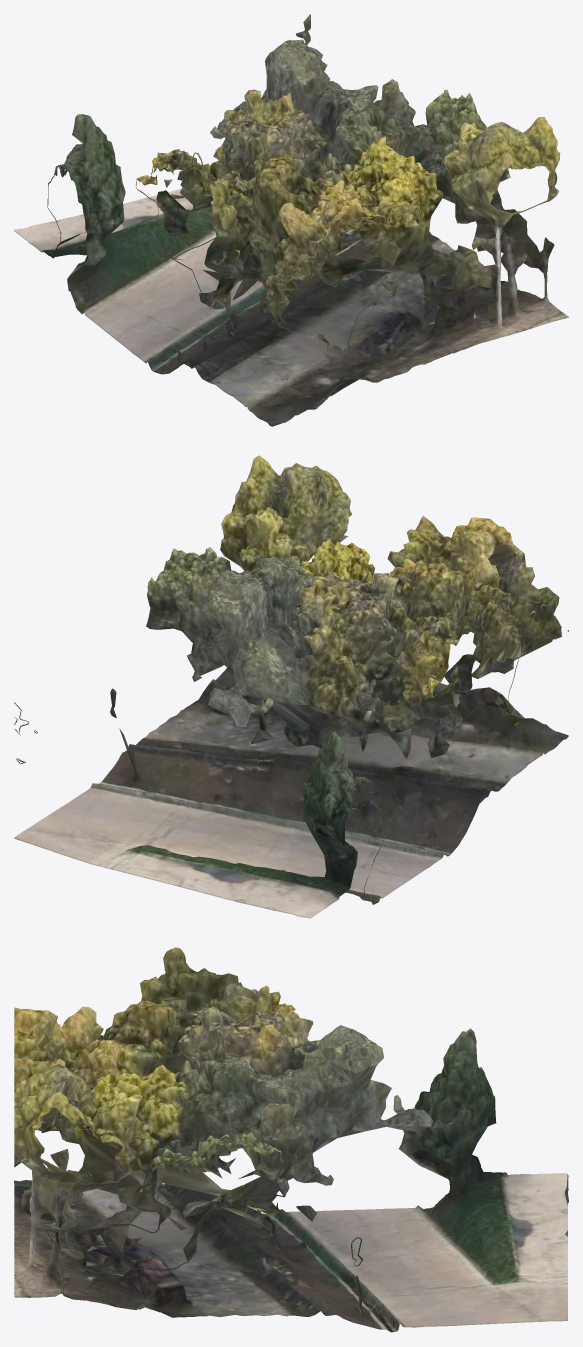
File: BlockBBYX_L19_13.glb
The picture shows the model from 3 angles, top to bottom: view 1: azimuth 30°, elevation 25°; view 2: azimuth 150°, elevation 25°; view 3: azimuth 270°, elevation 25°; orthographic projection. The views are drawn at different scales.
Visible parts, largest first — view 1: rtc; view 2: rtc; view 3: rtc.
Part boxes in pixels (left/top/right/bottom): rtc: left=14, top=14, right=568, bottom=426; rtc: left=14, top=455, right=568, bottom=918; rtc: left=14, top=947, right=568, bottom=1332.
Size of the model in its own units: 21.7 by 17.98 by 32.74.
3 materials, 3 textured.
